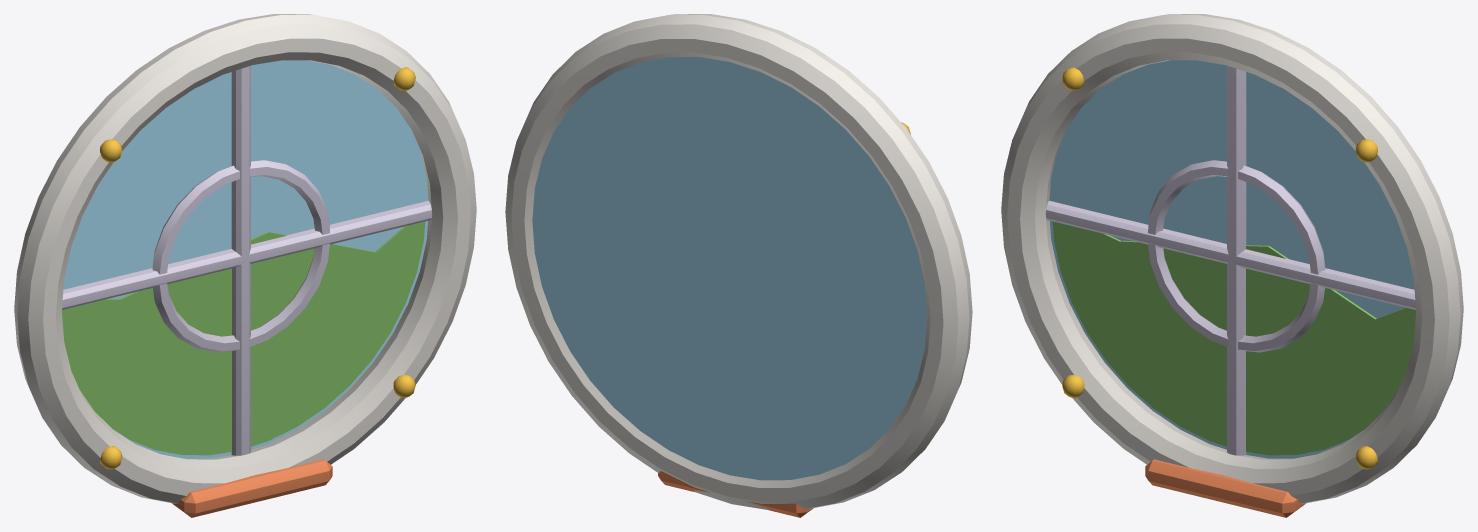
File: janela-redonda-colorido.glb
3 renders of one model, left to right at view 1: azimuth 30°, elevation 25°; view 2: azimuth 150°, elevation 25°; view 3: azimuth 330°, elevation 25°, orthographic.
Parts seen in each view (by area): view 1: moldura, placa, placa.001; view 2: placa, moldura; view 3: moldura, placa, placa.001.
Part boxes in pixels (box(x1,y1,x2,y2)): moldura: box(14, 14, 476, 517); placa: box(63, 60, 428, 458); placa.001: box(62, 221, 425, 455); placa: box(532, 57, 927, 480); moldura: box(505, 14, 972, 517); moldura: box(1001, 14, 1463, 517); placa: box(1049, 60, 1414, 458); placa.001: box(1052, 221, 1415, 455).
Size of the model in its own units: 1.54 by 1.54 by 0.1716.
